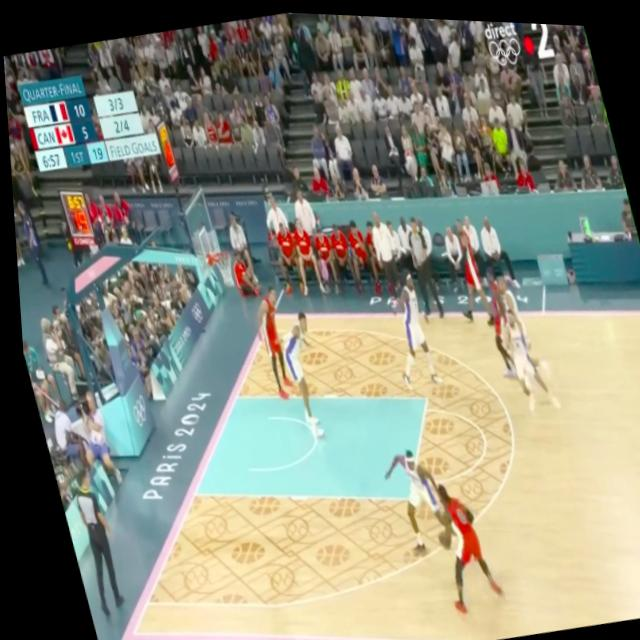ball_handler: (414, 467, 501, 617)
